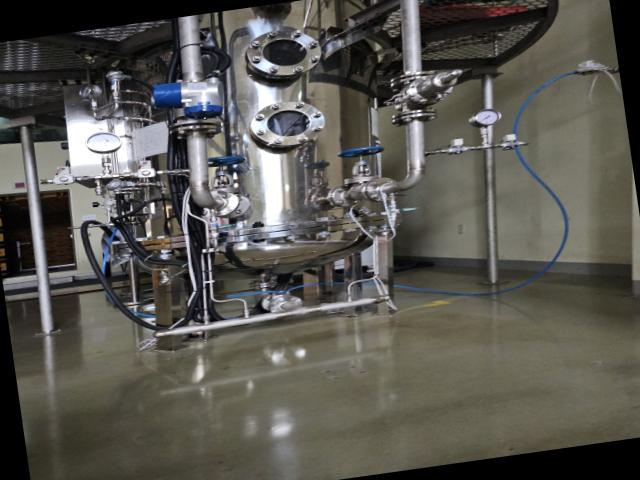Flange: (243, 24, 325, 85), (248, 96, 328, 154)
Flush Ring: (192, 185, 253, 224), (164, 114, 224, 144), (260, 288, 306, 317), (362, 175, 402, 204), (390, 68, 440, 91), (391, 106, 439, 128), (329, 182, 363, 210)
GasRegulator: (76, 66, 154, 133)
Nuts: (49, 172, 82, 189), (132, 165, 162, 181), (445, 144, 472, 156), (499, 139, 524, 151)
Piston Valve: (338, 144, 390, 186), (208, 152, 252, 196)
Pressure Gage: (83, 130, 126, 176), (466, 106, 506, 146)
